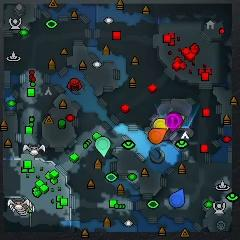Other: (166, 113, 179, 128)
p1: (170, 188, 185, 208)
p2: (95, 136, 111, 157)
p3: (166, 111, 183, 134)
p4: (154, 118, 167, 129)
p5: (149, 128, 167, 145)
